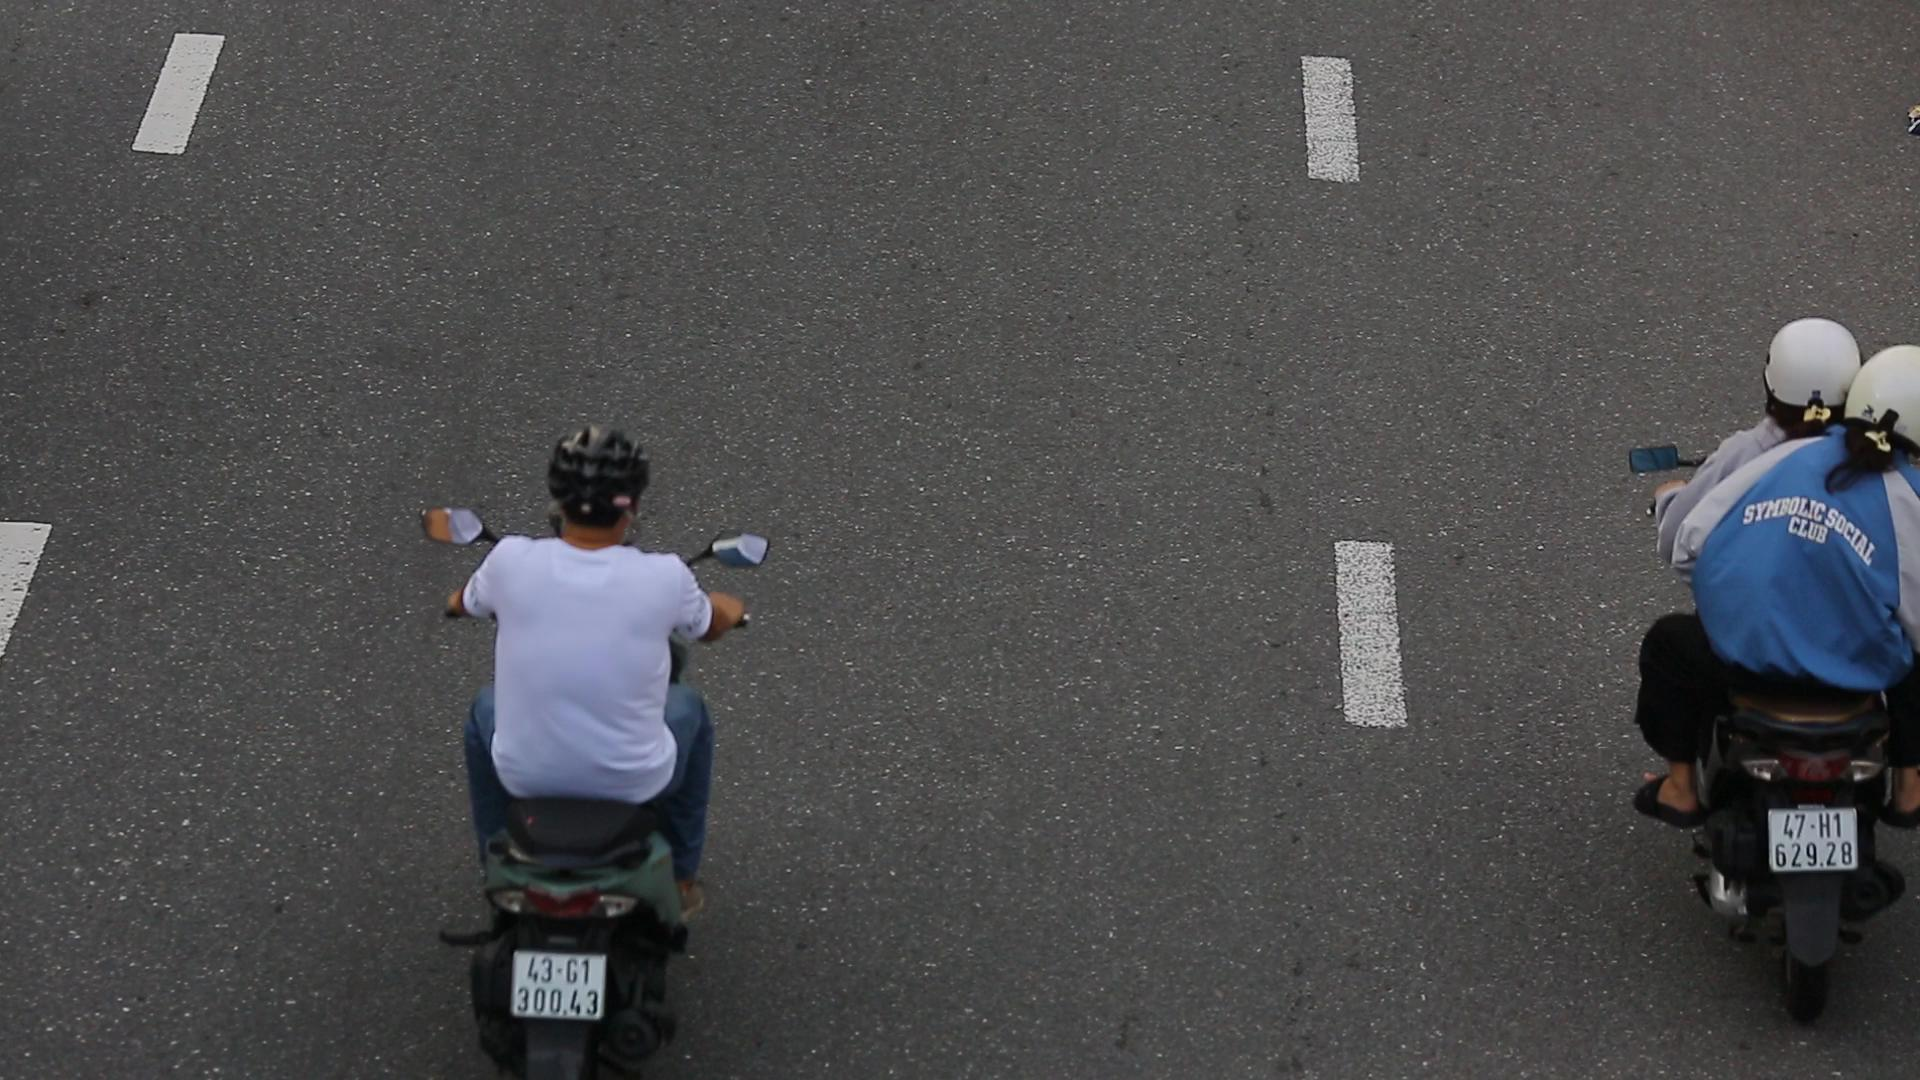motobike: (1621, 287, 1920, 1080), (429, 404, 750, 1080)
